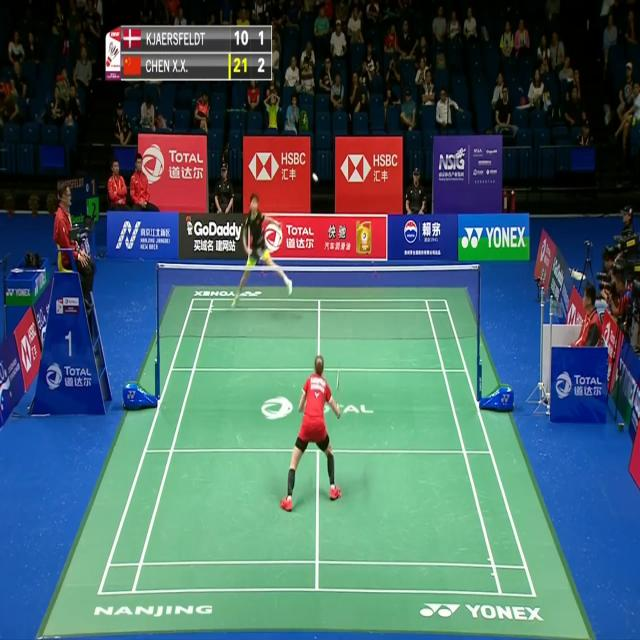Player1: (280, 343, 354, 517)
Player2: (230, 187, 296, 311)
